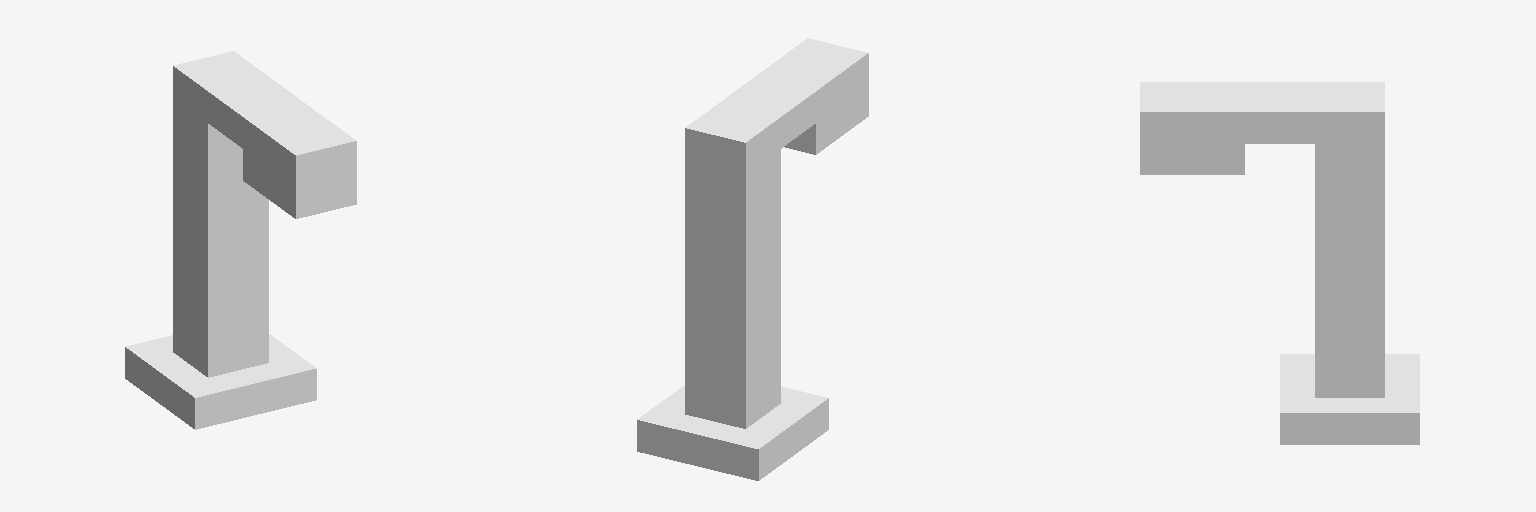
Rendered from modern:lamp-small.obj.
The picture shows the model from 3 angles: view 1: azimuth 30°, elevation 25°; view 2: azimuth 150°, elevation 25°; view 3: azimuth 270°, elevation 25°; orthographic projection.
Visible parts, largest first — view 1: modern:lamp-small; view 2: modern:lamp-small; view 3: modern:lamp-small.
Boxes of the visible parts, x1,y1,x2,y2 form: modern:lamp-small: [125, 51, 356, 429]; modern:lamp-small: [637, 38, 868, 480]; modern:lamp-small: [1140, 82, 1419, 444].
Bounding box in the file's own units: 4 × 10 × 8.